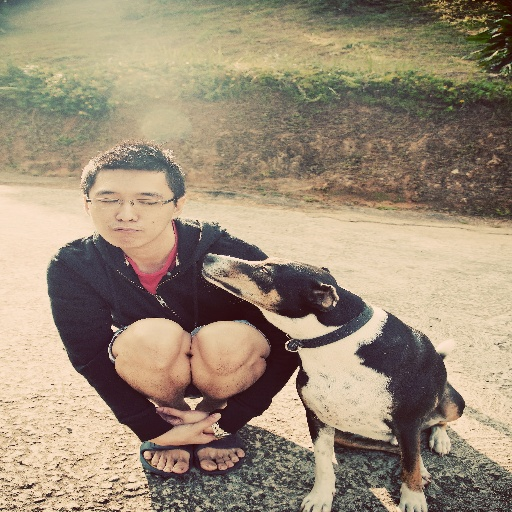hand: (152, 404, 215, 434)
